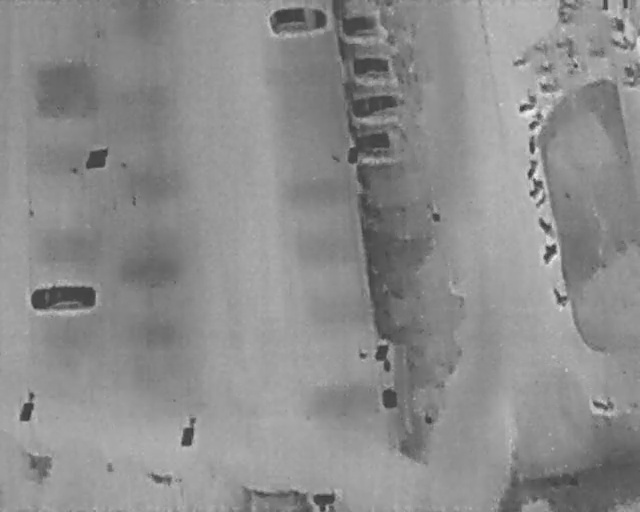Car: (267, 1, 328, 38), (28, 283, 97, 314), (346, 89, 407, 121), (350, 128, 405, 156), (348, 53, 400, 79), (342, 14, 393, 37)
